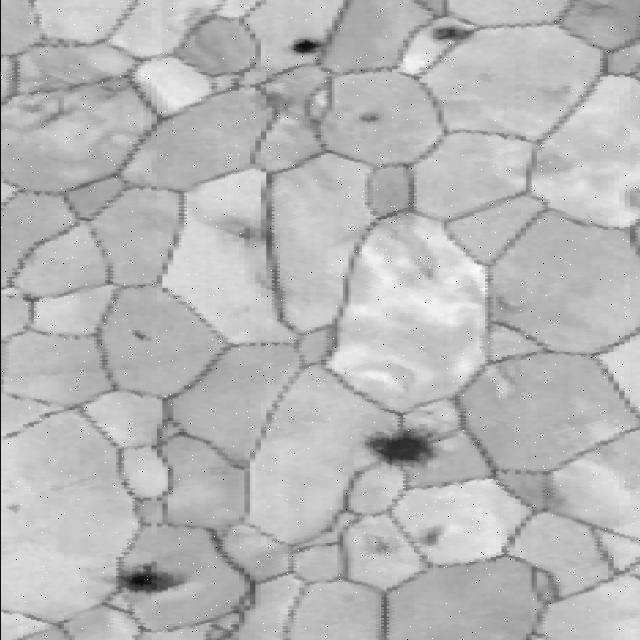good_void: (359, 427, 438, 466), (12, 91, 71, 131), (110, 566, 175, 597), (80, 73, 146, 103), (243, 88, 297, 118), (220, 215, 264, 247), (424, 19, 467, 45), (361, 531, 402, 558), (411, 526, 457, 547), (289, 41, 330, 63), (492, 293, 522, 319), (125, 325, 160, 346), (577, 0, 616, 17), (355, 107, 387, 127), (11, 292, 42, 309), (2, 499, 26, 518)
